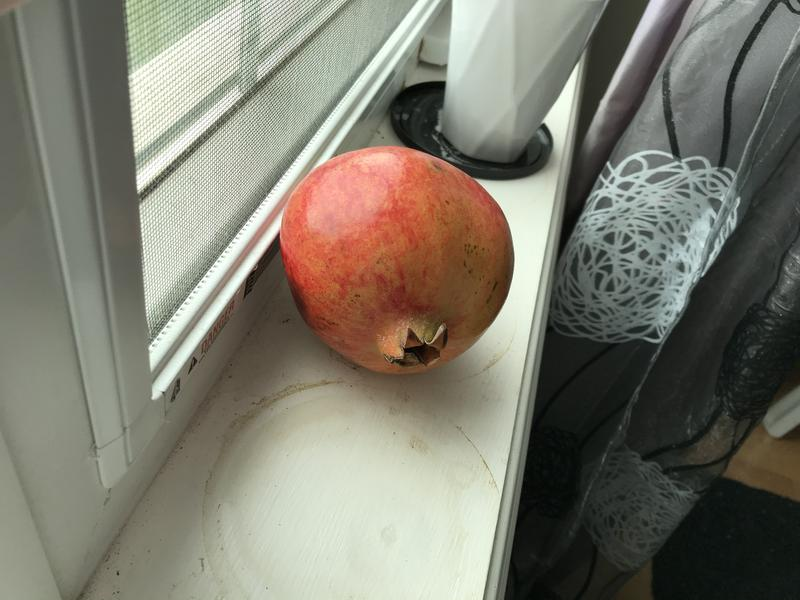pomegranate: (270, 141, 523, 394)
